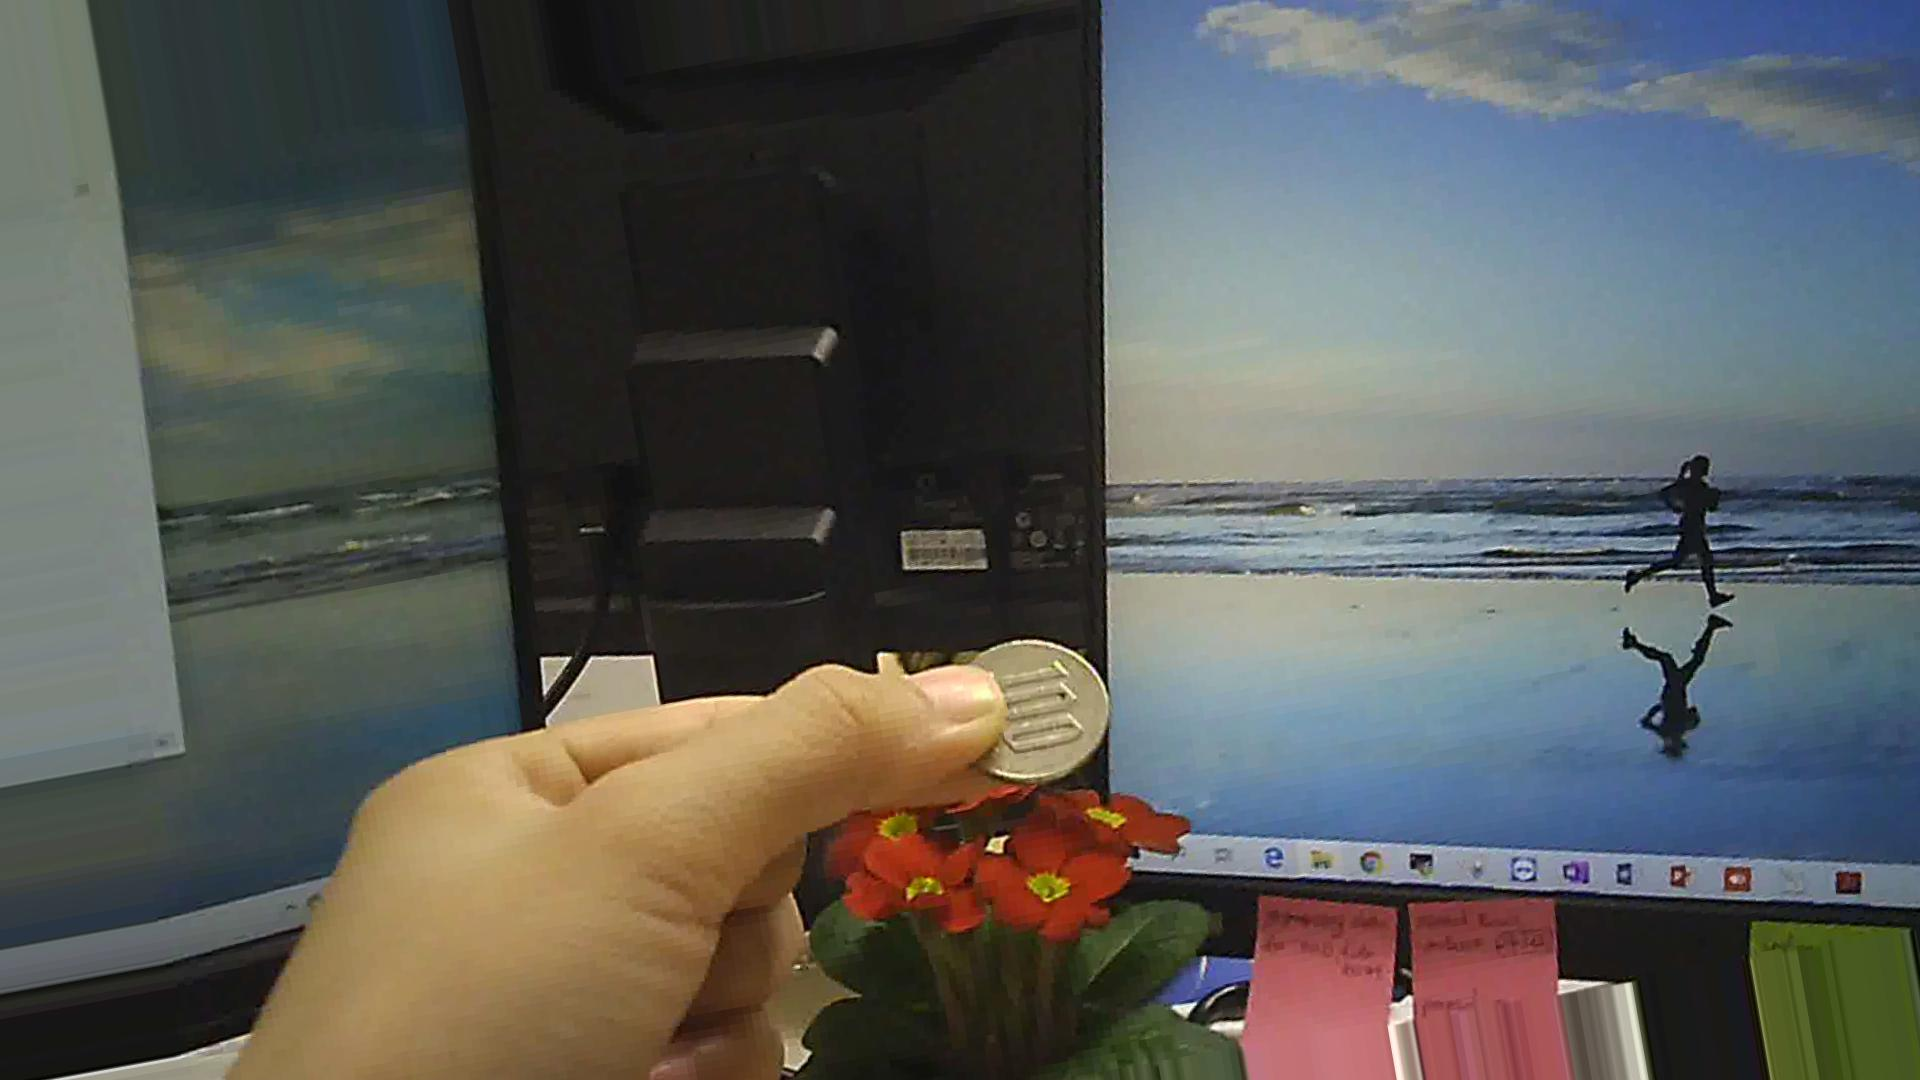100 Yen: (944, 626, 1143, 793)
